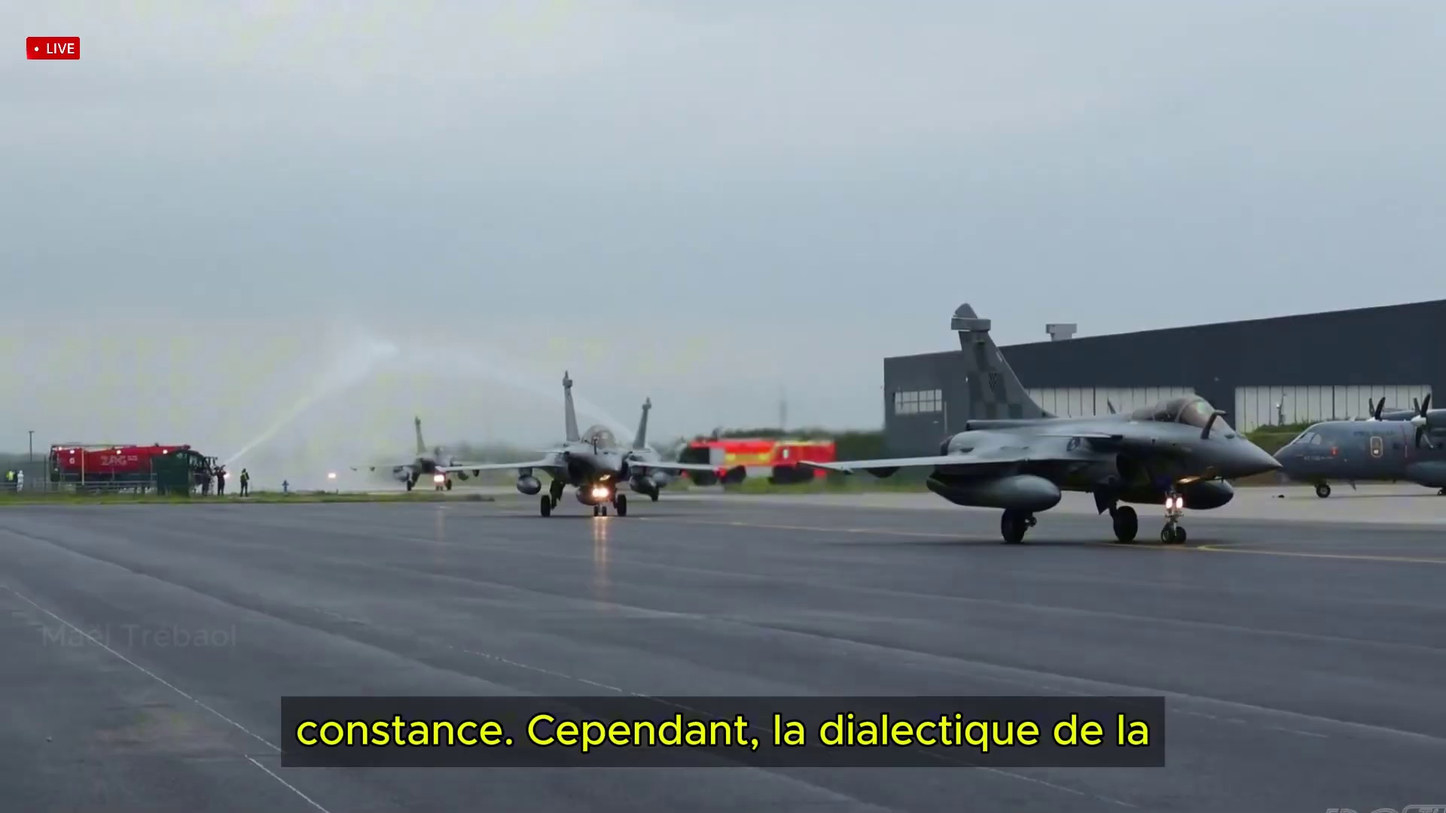Rafale: (800, 306, 1280, 544), (431, 374, 745, 520), (353, 417, 486, 491)
